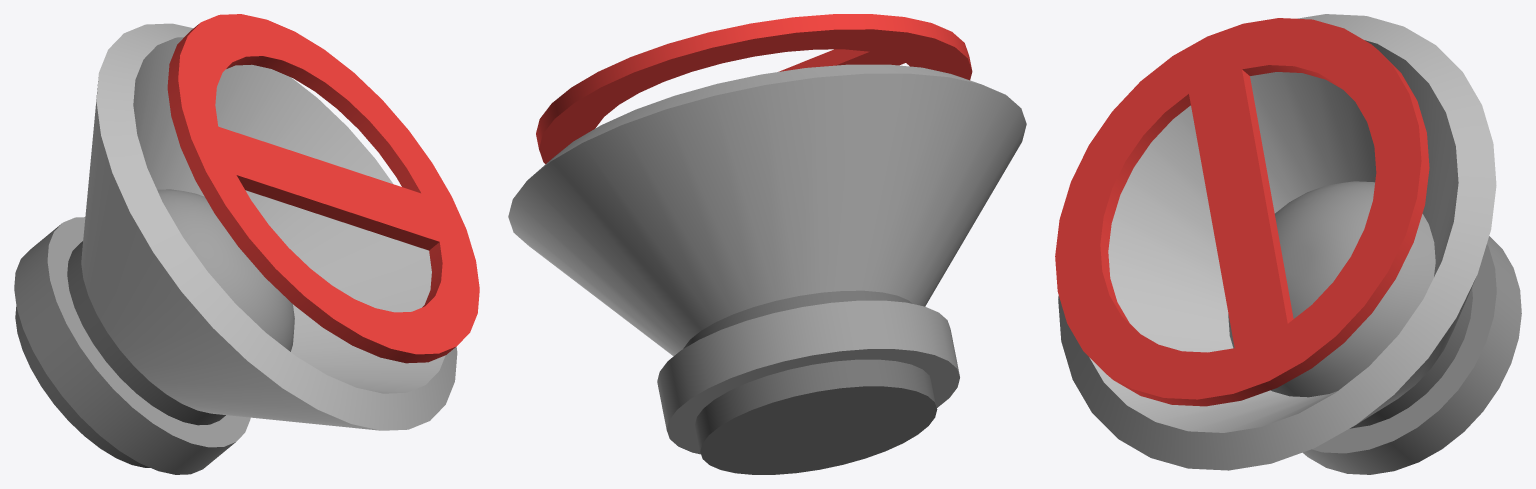
The model's file is muted_speaker.glb.
3 views of the same model, side by side, from view 1: azimuth 30°, elevation 25°; view 2: azimuth 150°, elevation 25°; view 3: azimuth 270°, elevation 25° (orthographic). The views are drawn at different scales.
Visible parts, largest first — view 1: Circle.2538; view 2: Circle.2538; view 3: Circle.2538.
Boxes of the visible parts, x1,y1,x2,y2 form: Circle.2538: (14,14,479,474); Circle.2538: (508,14,1026,474); Circle.2538: (1055,14,1521,474).
Size of the model in its own units: 2.12 by 2.17 by 2.12.
1 material, 1 textured.
